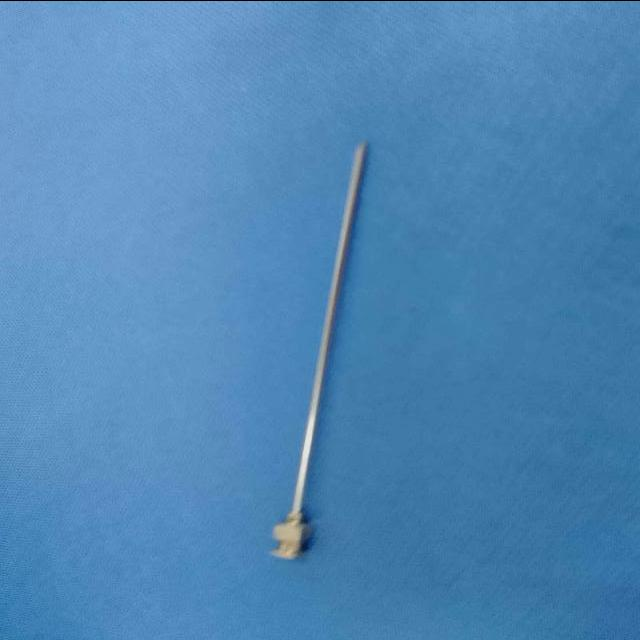Infectious: (269, 509, 313, 558)
Pathological: (1, 2, 637, 637)
Sharps: (268, 139, 369, 559)
